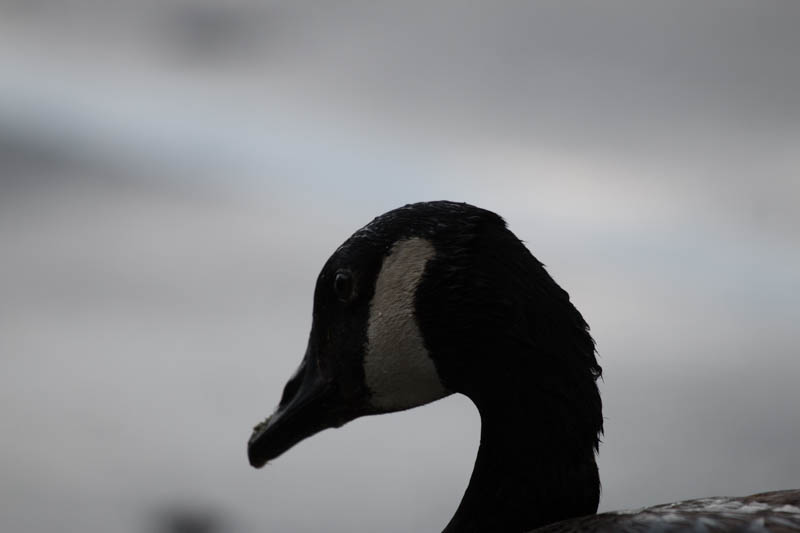goose-head: (246, 199, 528, 467)
